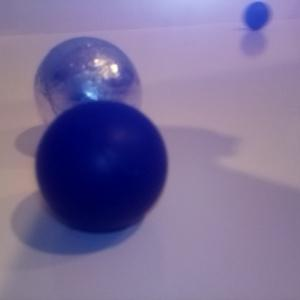alive_ball: (34, 36, 142, 141)
dead_ball: (34, 100, 168, 233), (244, 2, 269, 30)
